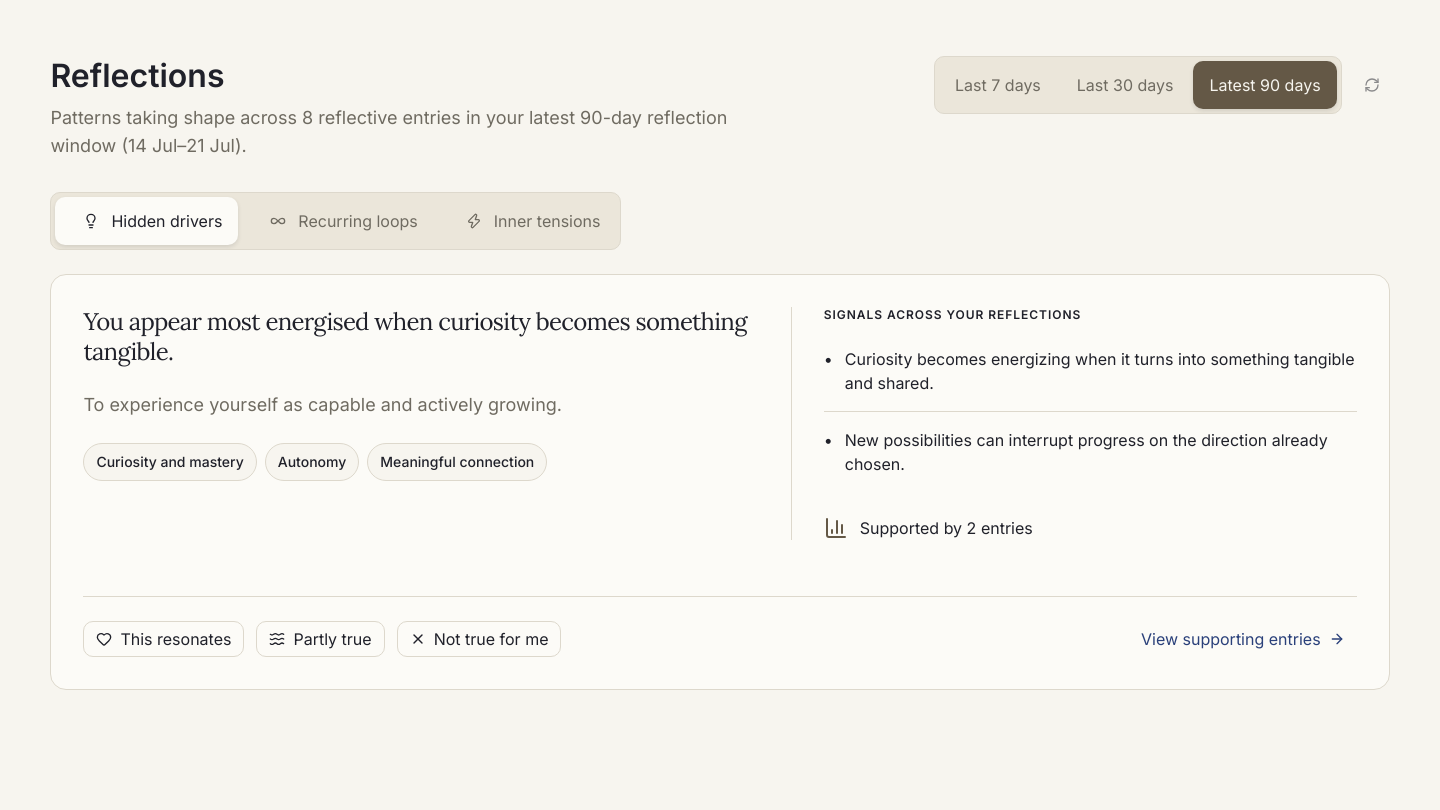
Test: ReflectionsScreen › keeps feedback pending controls active while a stale snapshot polls
The width and height of the screenshot is (1440, 810).
Click the button "Not true for me": (479, 639) x1=397 y1=621 x2=561 y2=657
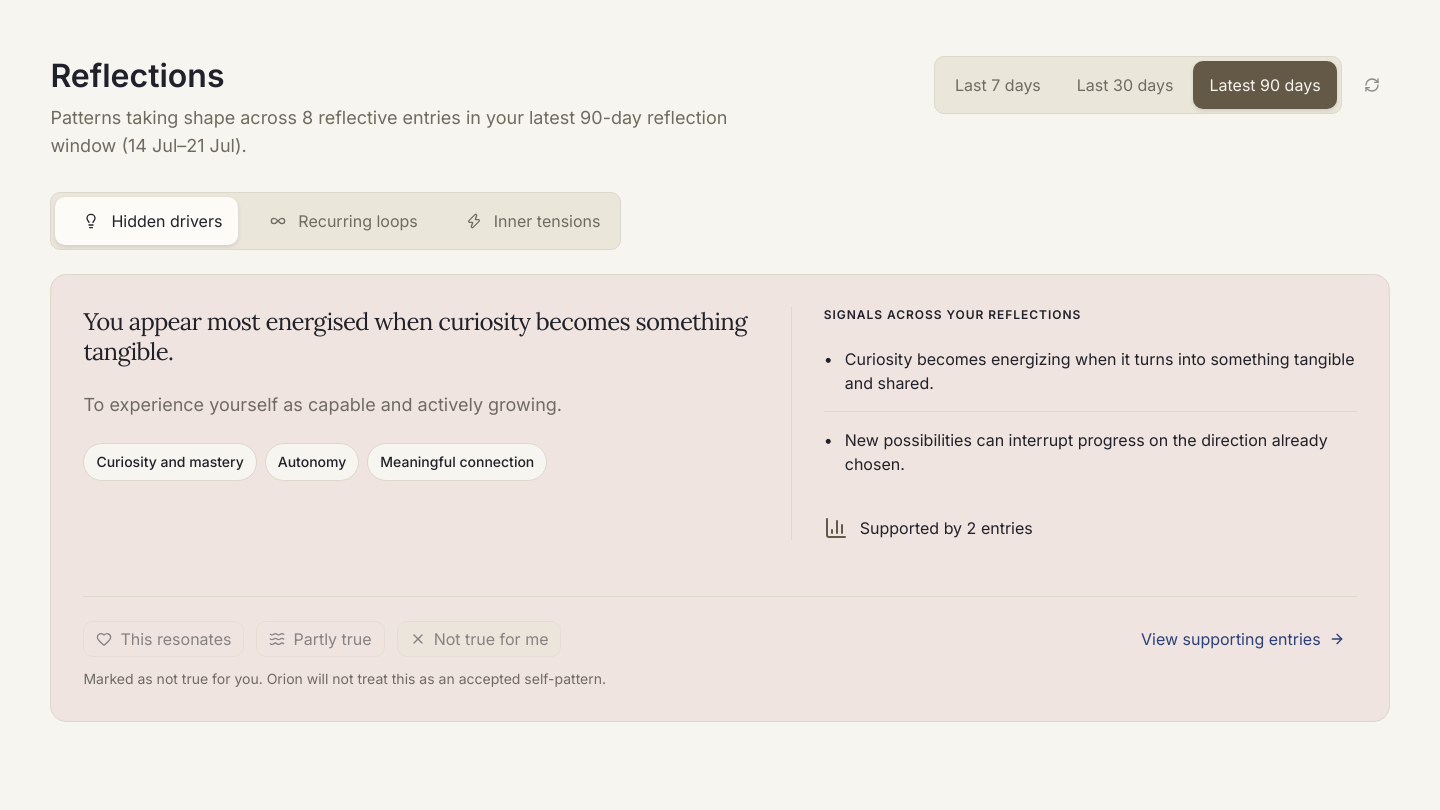
Check: the button "Not true for me" is disabled
Click the button "Not true for me": (479, 639) x1=397 y1=621 x2=561 y2=657
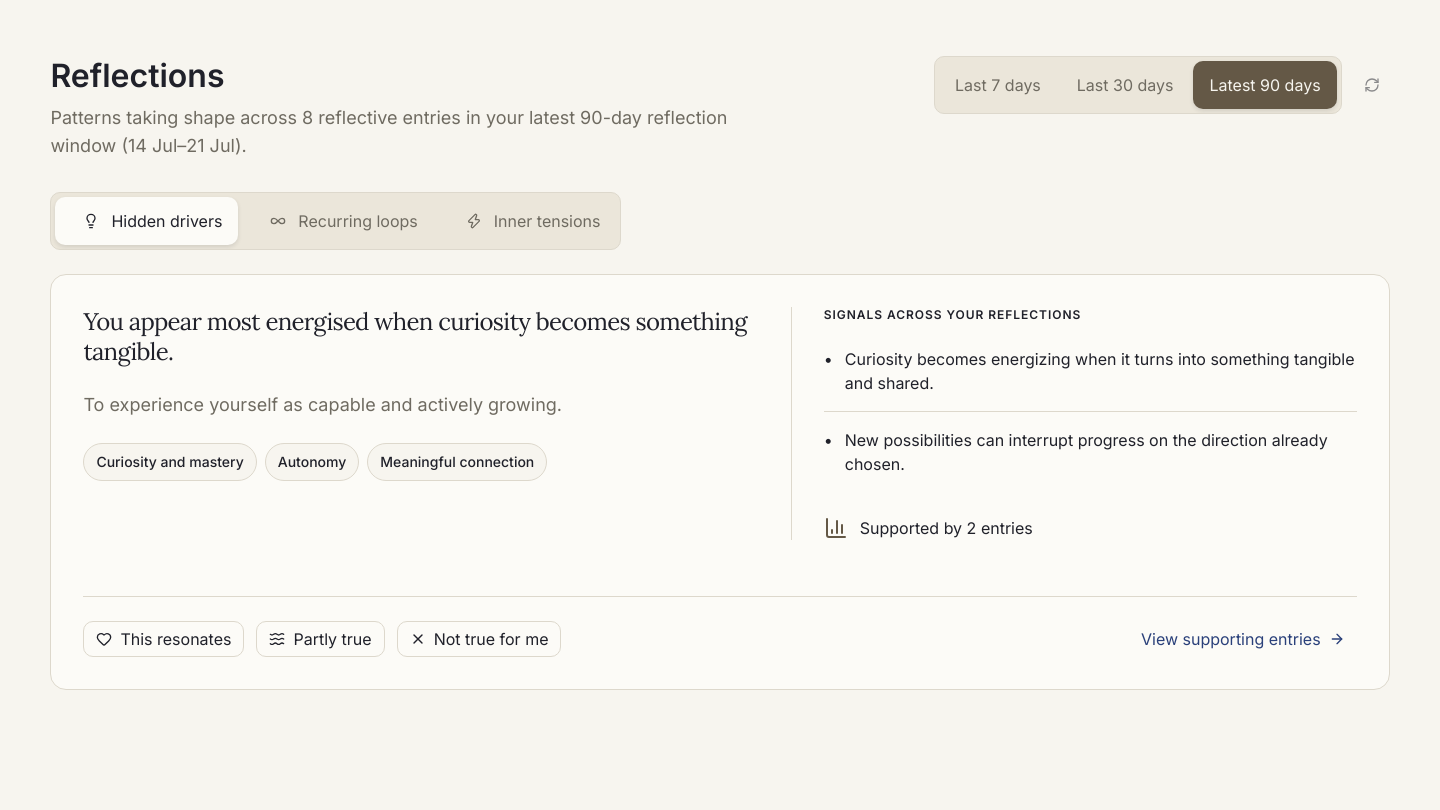
Check: the button "Not true for me" is enabled, box x1=397 y1=621 x2=561 y2=657
